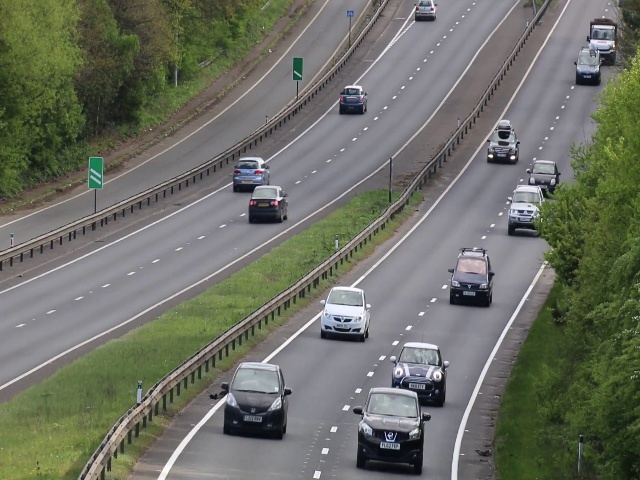car: (355, 386, 425, 472), (225, 361, 289, 440), (393, 340, 444, 402), (320, 287, 367, 339), (448, 250, 491, 305), (510, 184, 541, 238), (249, 182, 288, 224), (235, 156, 269, 190), (488, 128, 519, 164), (576, 46, 601, 87), (530, 159, 559, 194), (340, 81, 366, 116), (591, 22, 616, 50), (412, 1, 436, 20)
